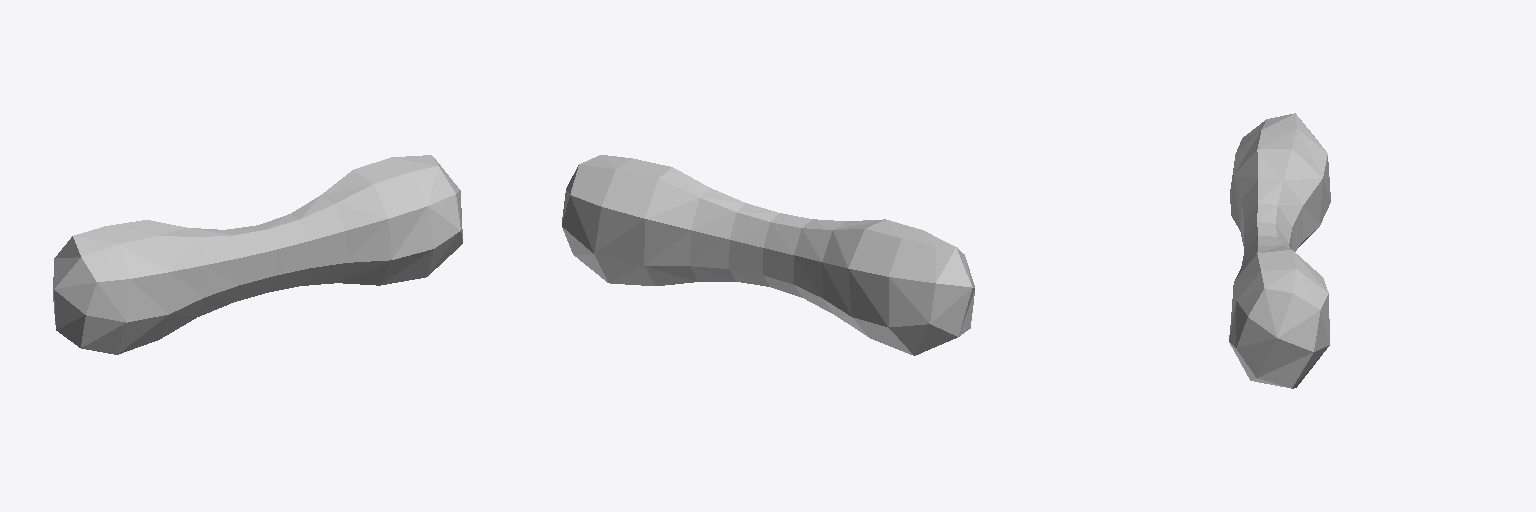
File: Connective.Ligaments.Pubicum_superius.obj
3 renders of one model, left to right at view 1: azimuth 30°, elevation 25°; view 2: azimuth 150°, elevation 25°; view 3: azimuth 270°, elevation 25°, orthographic.
Visible parts, largest first — view 1: Connective:Ligaments:Pubicum_superius_Ligaments.120; view 2: Connective:Ligaments:Pubicum_superius_Ligaments.120; view 3: Connective:Ligaments:Pubicum_superius_Ligaments.120.
Boxes of the visible parts, x1,y1,x2,y2 form: Connective:Ligaments:Pubicum_superius_Ligaments.120: [53, 155, 462, 354]; Connective:Ligaments:Pubicum_superius_Ligaments.120: [562, 155, 974, 355]; Connective:Ligaments:Pubicum_superius_Ligaments.120: [1229, 113, 1330, 388].
Bounding box in the file's own units: 0.2137 × 0.0586 × 0.0465.